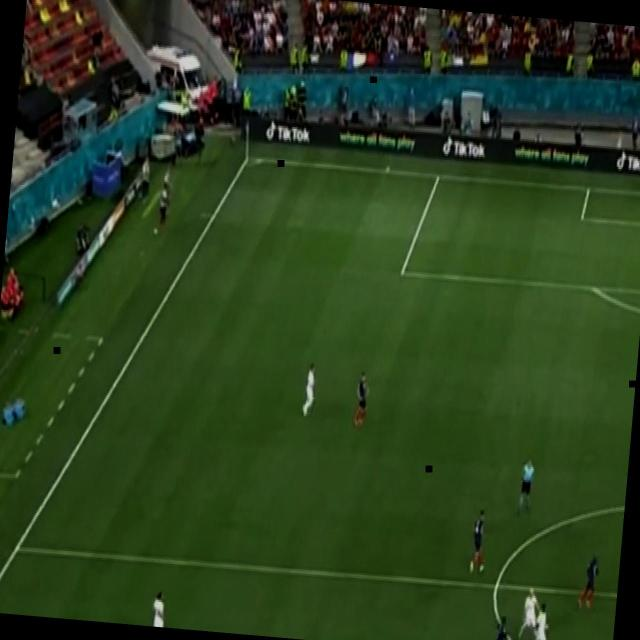player-white: (468, 506, 490, 576), (576, 553, 601, 612), (516, 584, 542, 640), (524, 599, 552, 640), (300, 362, 318, 421), (353, 370, 371, 428), (517, 458, 536, 512), (148, 590, 168, 628), (487, 613, 513, 640)
